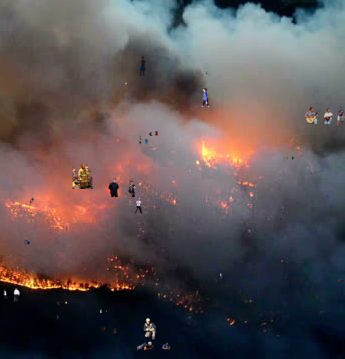Human: (72, 163, 93, 189), (137, 341, 171, 357), (108, 178, 136, 197), (197, 289, 228, 306), (304, 107, 334, 124), (116, 198, 144, 216), (143, 318, 157, 340), (3, 288, 20, 302), (335, 104, 345, 127), (96, 327, 117, 337), (201, 88, 210, 107), (138, 56, 146, 76), (283, 156, 303, 161), (139, 136, 148, 144), (29, 197, 35, 208), (57, 301, 67, 307), (149, 131, 158, 136), (22, 240, 30, 245), (100, 309, 107, 313), (121, 82, 130, 85), (55, 314, 59, 320), (338, 279, 344, 282), (220, 273, 222, 279), (206, 69, 208, 74), (280, 217, 282, 222), (158, 293, 160, 298)
